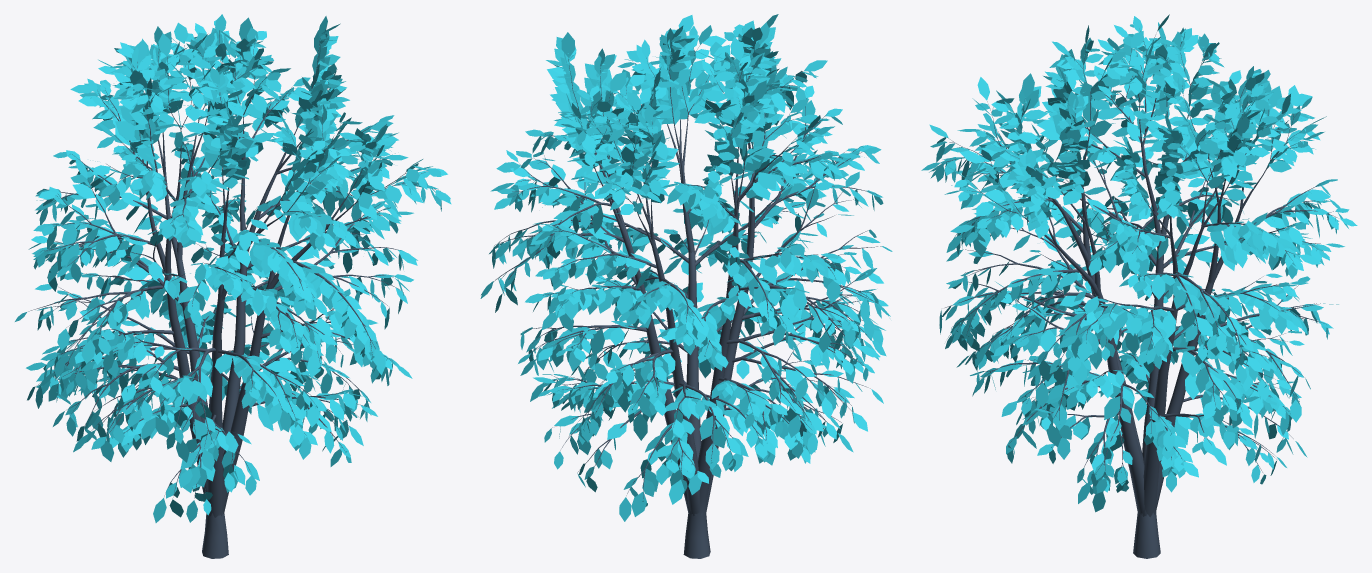
File: tree1.fbx
The picture shows the model from 3 angles, left to right: view 1: azimuth 30°, elevation 25°; view 2: azimuth 150°, elevation 25°; view 3: azimuth 270°, elevation 25°; orthographic projection.
Visible parts, largest first — view 1: leaves, tree; view 2: leaves, tree; view 3: leaves, tree.
Boxes of the visible parts, x1,y1,x2,y2 form: leaves: (15,14,451,522); tree: (28,30,438,558); leaves: (480,14,892,521); tree: (494,43,881,558); leaves: (921,14,1357,512); tree: (941,31,1337,558).
Bounding box in the file's own units: 1175 × 1614 × 1230.
